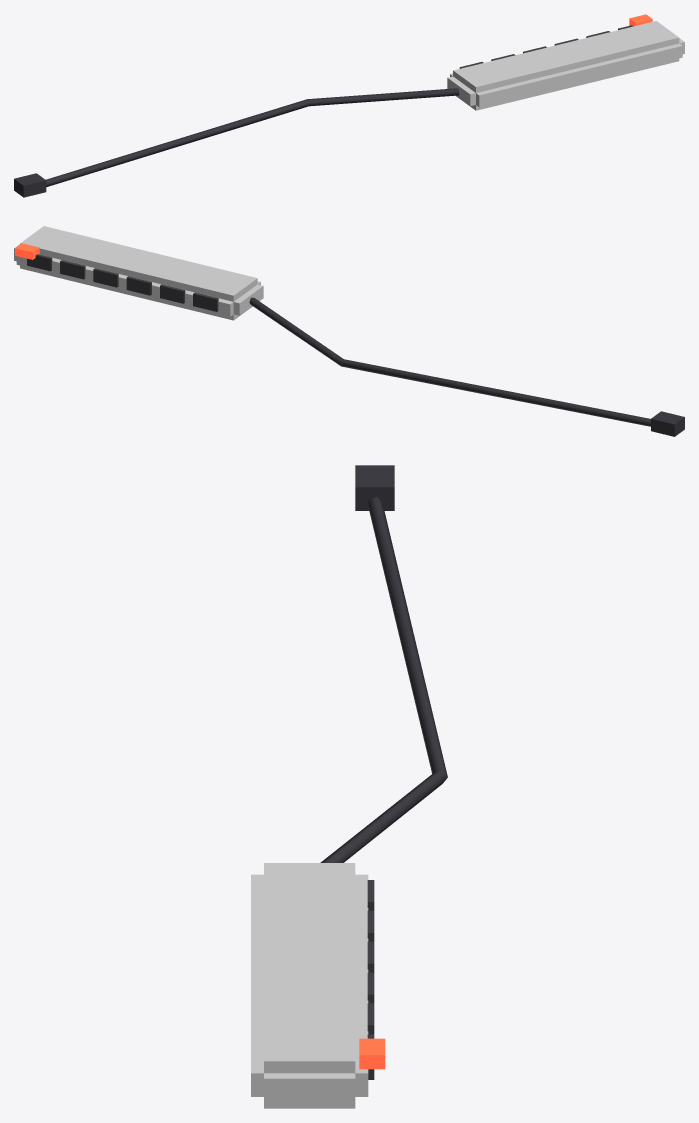
File: power_strip.glb
The picture shows the model from 3 angles, top to bottom: view 1: azimuth 30°, elevation 25°; view 2: azimuth 150°, elevation 25°; view 3: azimuth 270°, elevation 25°; orthographic projection. The views are drawn at different scales.
Visible parts, largest first — view 1: power_strip; view 2: power_strip; view 3: power_strip.
Part boxes in pixels (box(x1,y1,x2,y2)): power_strip: box(14, 14, 684, 197); power_strip: box(14, 226, 684, 436); power_strip: box(251, 465, 447, 1108).
Bounding box in the file's own units: 1.13 × 0.043 × 0.151.
